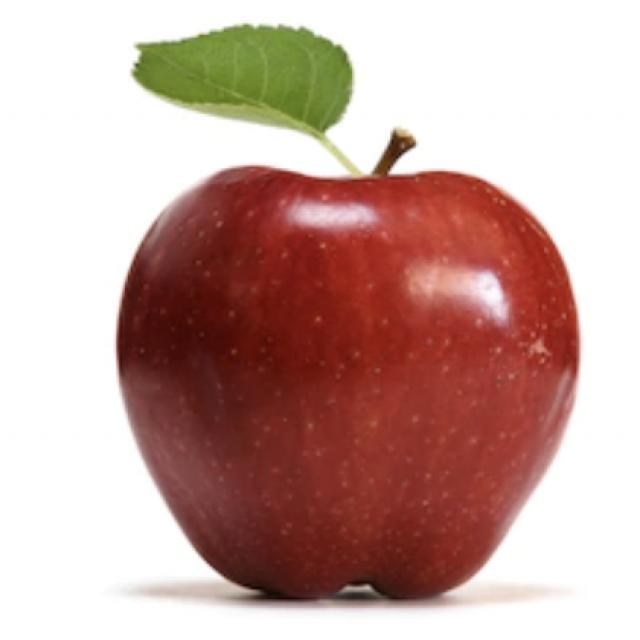Fresh Apple: (93, 163, 567, 597)
